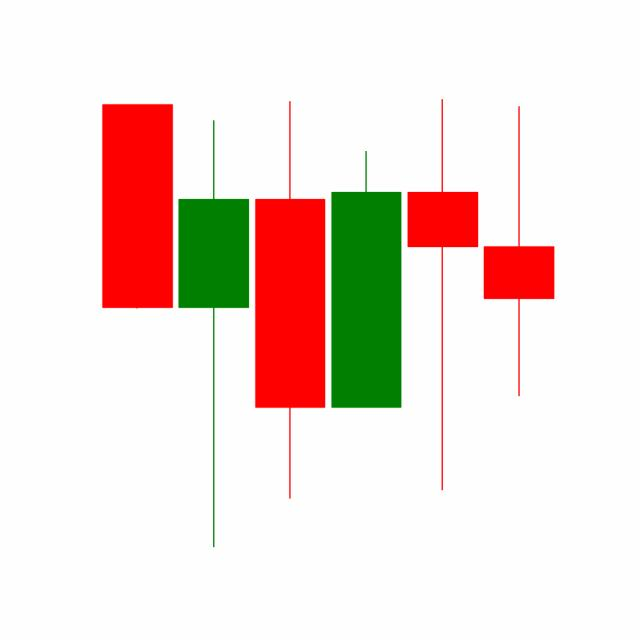Spinning Top: (403, 94, 481, 494)
